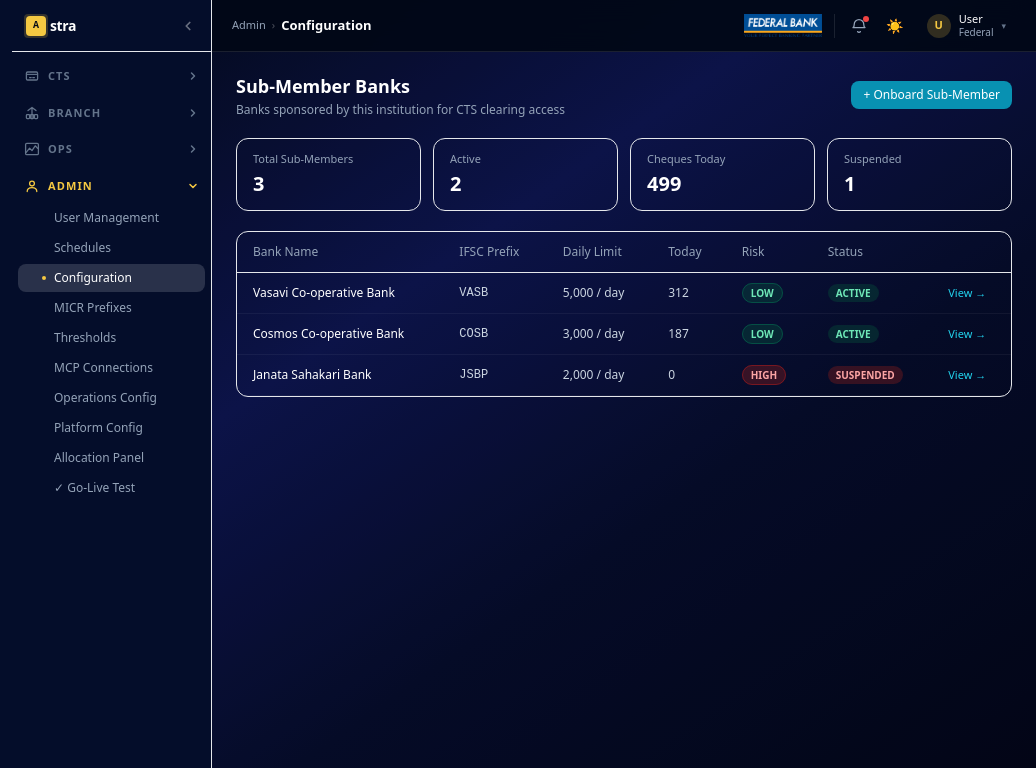
CTSSubMemberBanks › detail panel can be closed
The width and height of the screenshot is (1036, 768).
Click the button "View →" in the row of "Vasavi Co-operative Bank": x=967, y=292 [948,284,986,300]
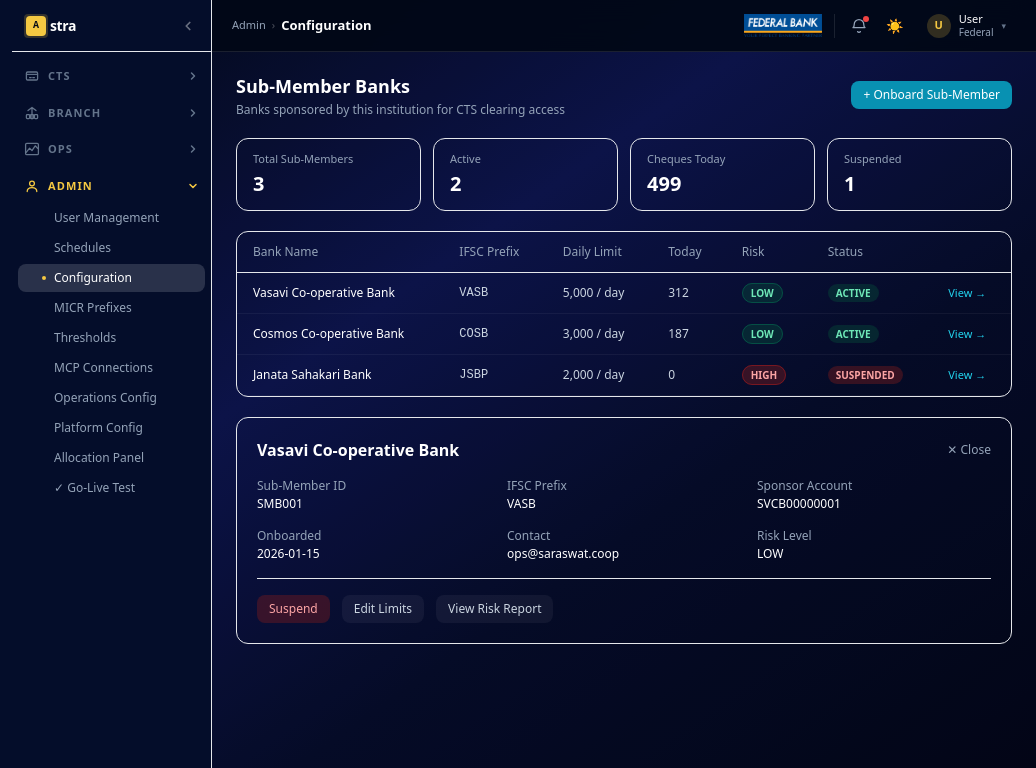
Click the button "✕ Close": x=969, y=450 [947,442,991,458]
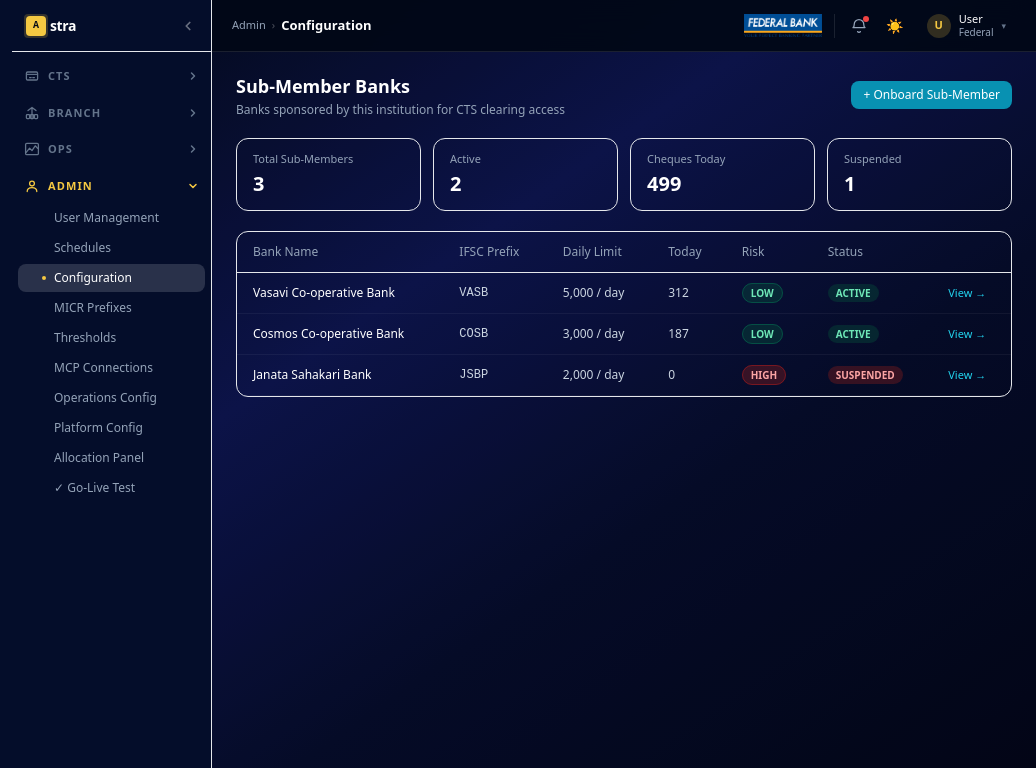
expect the text "Sub-Member ID" is gone: met
